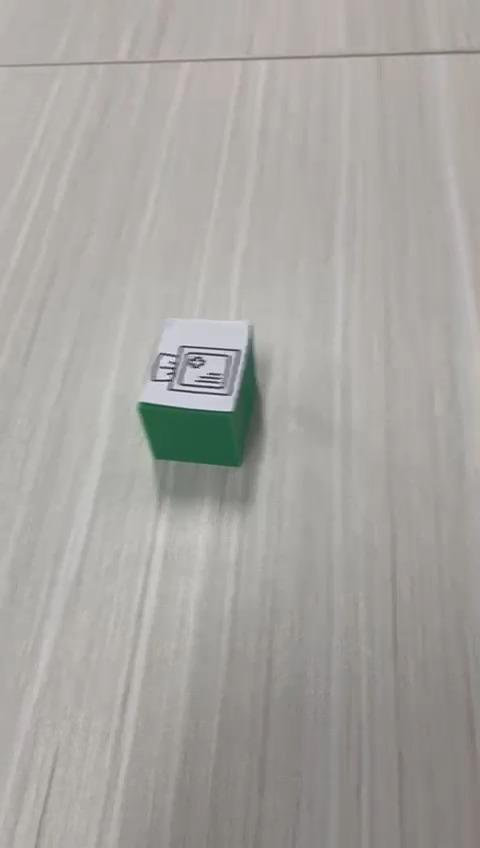Gauze: (135, 316, 257, 468)
